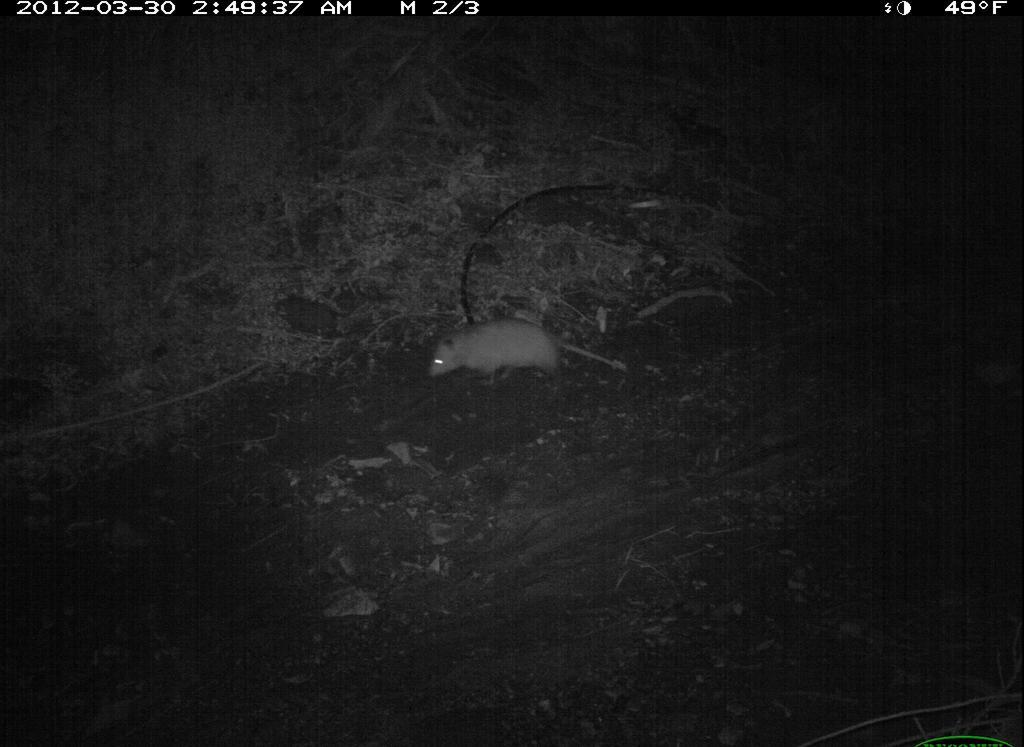opossum: (418, 313, 637, 394)
